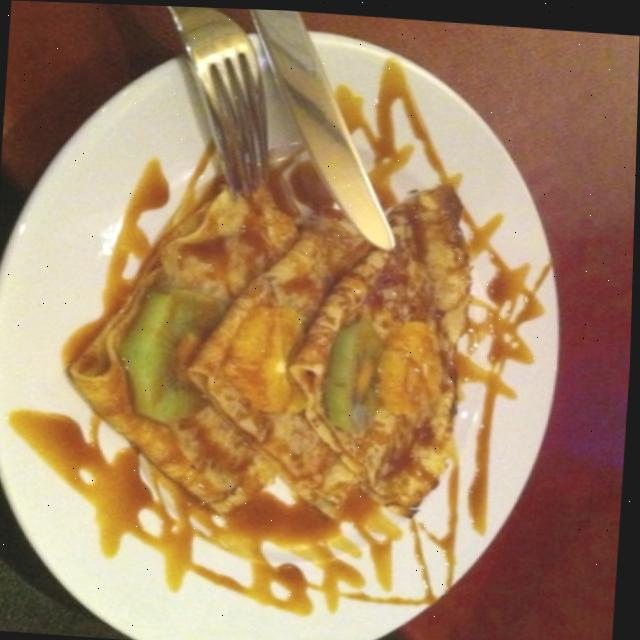带馅早点: (178, 241, 517, 395)
